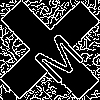M: (25, 25, 86, 86)
